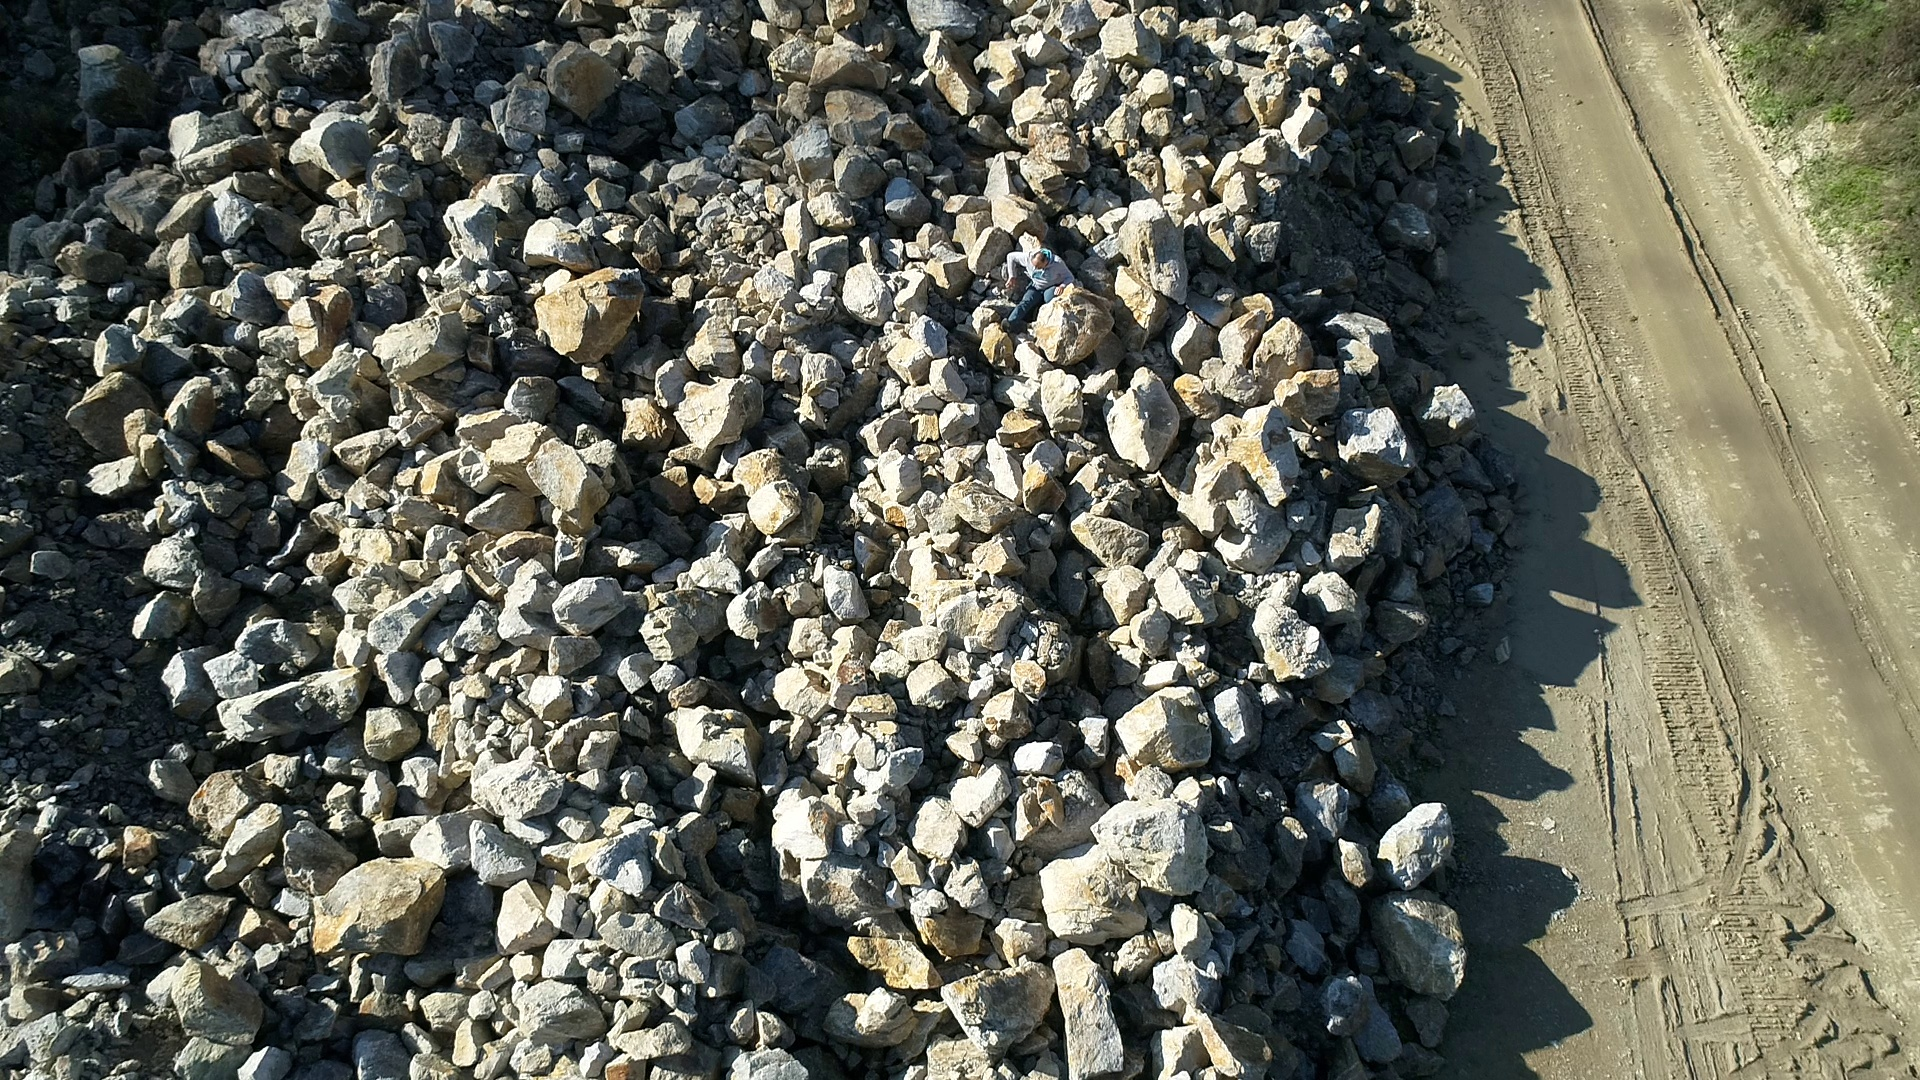person: (1000, 248, 1075, 331)
